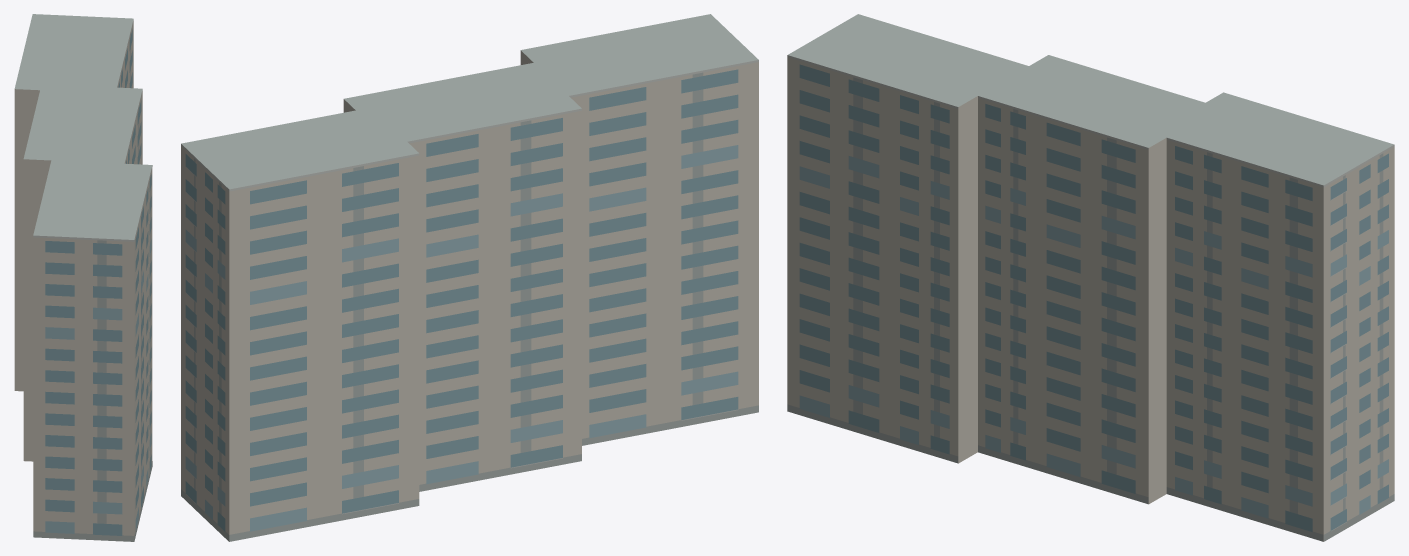
File: residential-ba12ee20-1a79-421a-9ce8-c1b9dadbdb94.glb
3 views of the same model, side by side, from view 1: azimuth 30°, elevation 25°; view 2: azimuth 150°, elevation 25°; view 3: azimuth 270°, elevation 25° (orthographic). The views are drawn at different scales.
Visible parts, largest first — view 1: residential-ba12ee20-1a79-421a-9ce8-c1b9dadbdb94.tmp; view 2: residential-ba12ee20-1a79-421a-9ce8-c1b9dadbdb94.tmp; view 3: residential-ba12ee20-1a79-421a-9ce8-c1b9dadbdb94.tmp.
Part boxes in pixels (x1,y1,x2,y2): residential-ba12ee20-1a79-421a-9ce8-c1b9dadbdb94.tmp: [14, 14, 152, 541]; residential-ba12ee20-1a79-421a-9ce8-c1b9dadbdb94.tmp: [181, 14, 758, 541]; residential-ba12ee20-1a79-421a-9ce8-c1b9dadbdb94.tmp: [787, 14, 1394, 541].
Bounding box in the file's own units: 41.29 × 40 × 61.75.
